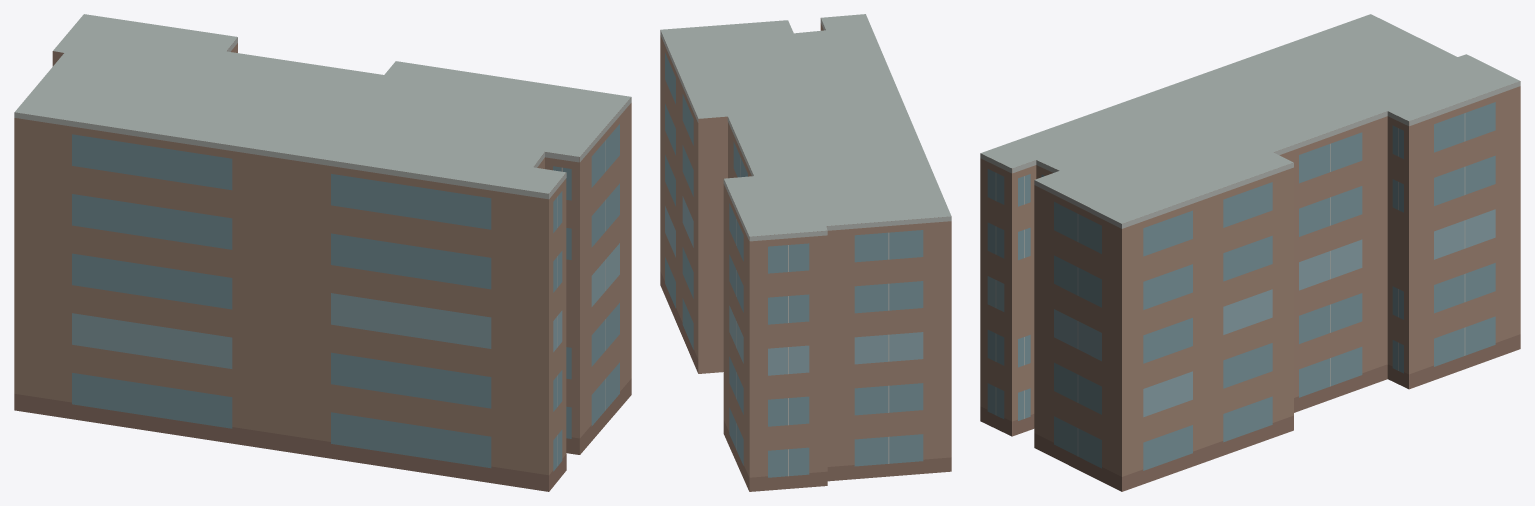
Rendered from survey-upis-32637471.glb.
3 views of the same model, side by side, from view 1: azimuth 30°, elevation 25°; view 2: azimuth 150°, elevation 25°; view 3: azimuth 270°, elevation 25° (orthographic). The views are drawn at different scales.
Parts seen in each view (by area): view 1: survey-upis-32637471.tmp; view 2: survey-upis-32637471.tmp; view 3: survey-upis-32637471.tmp.
Boxes of the visible parts, bbox=[...] form: survey-upis-32637471.tmp: bbox=[14, 14, 631, 491]; survey-upis-32637471.tmp: bbox=[660, 14, 951, 491]; survey-upis-32637471.tmp: bbox=[980, 14, 1520, 491].
Size of the model in its own units: 22.02 by 13.1 by 23.94.
